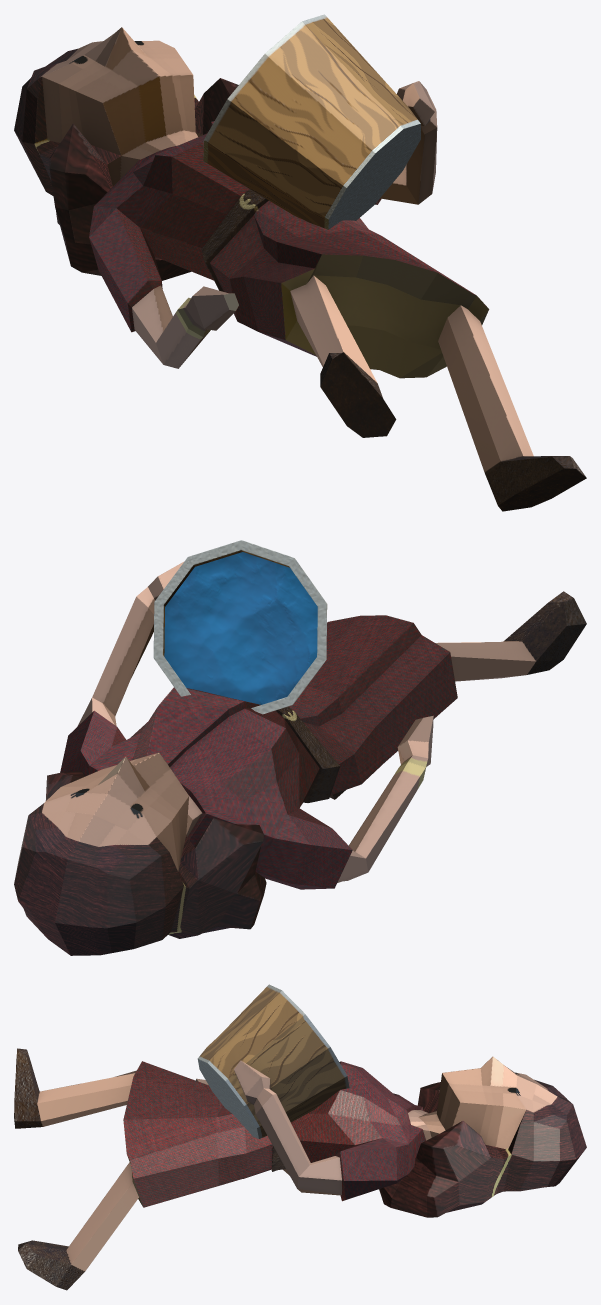
Rendered from Walk_Aldeana_9.obj.
The picture shows the model from 3 angles, top to bottom: view 1: azimuth 30°, elevation 25°; view 2: azimuth 150°, elevation 25°; view 3: azimuth 270°, elevation 25°; orthographic projection. The views are drawn at different scales.
Parts seen in each view (by area): view 1: Aldeana.001; view 2: Aldeana.001; view 3: Aldeana.001.
Boxes of the visible parts, bbox=[...] form: Aldeana.001: bbox=[14, 14, 586, 511]; Aldeana.001: bbox=[14, 540, 586, 955]; Aldeana.001: bbox=[14, 984, 586, 1290].
Size of the model in its own units: 1.07 by 1.26 by 2.38.
